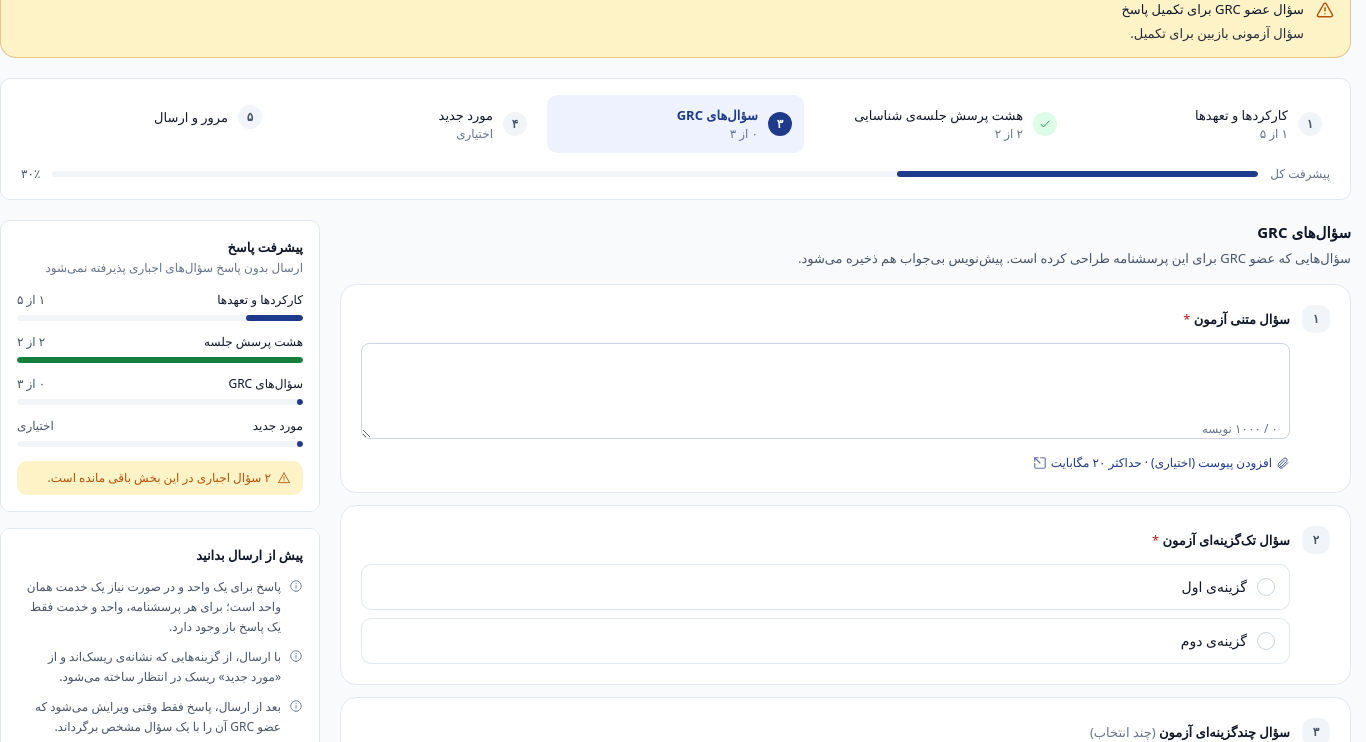
Test: ResponseFormPage › asks before submitting and becomes read-only after
This screenshot has width=1366, height=742.
Earlier steps of the test are not shown.
(page scrolled)
Type "جواب آزمون" into the text box named "سؤال متنی آزمون" at (826, 391), box [361,343,1290,439]
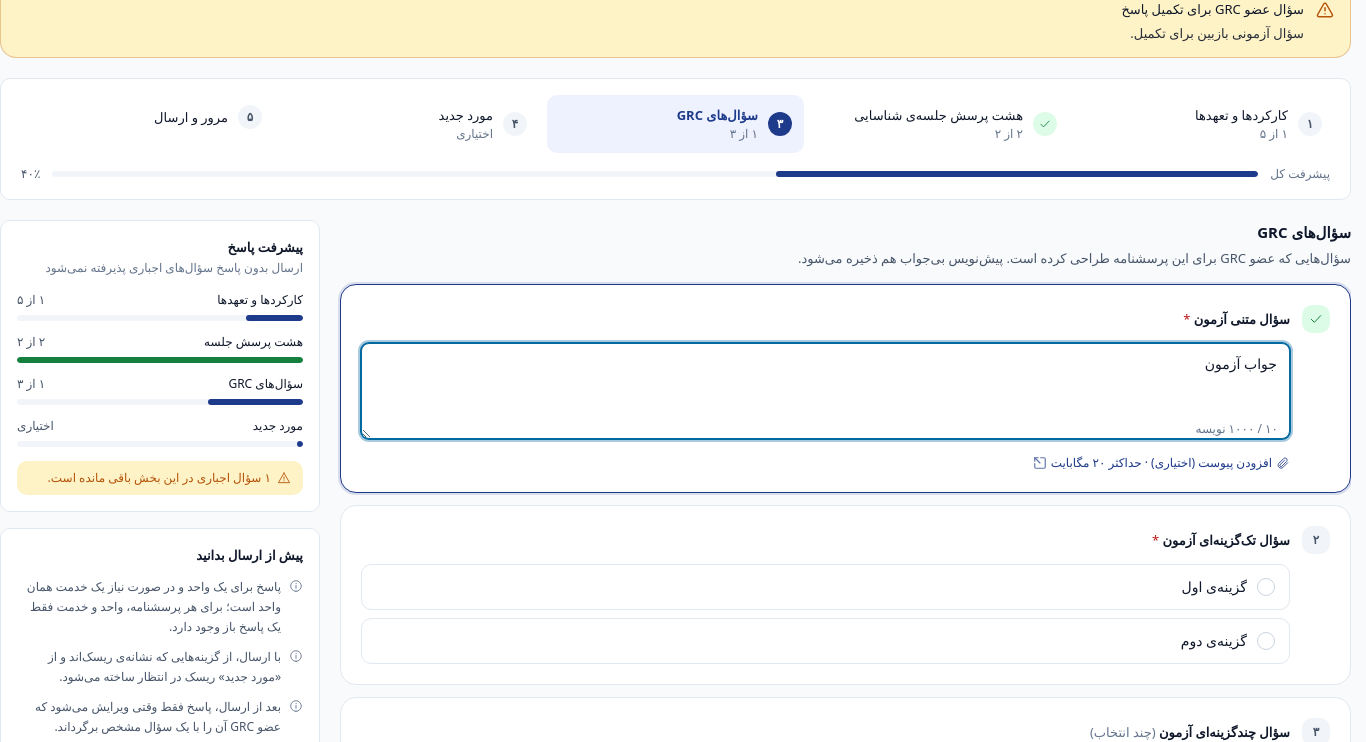
Click the radio button labelled "گزینه‌ی دوم" at (1266, 641), box [1257,632,1275,650]
(page scrolled)
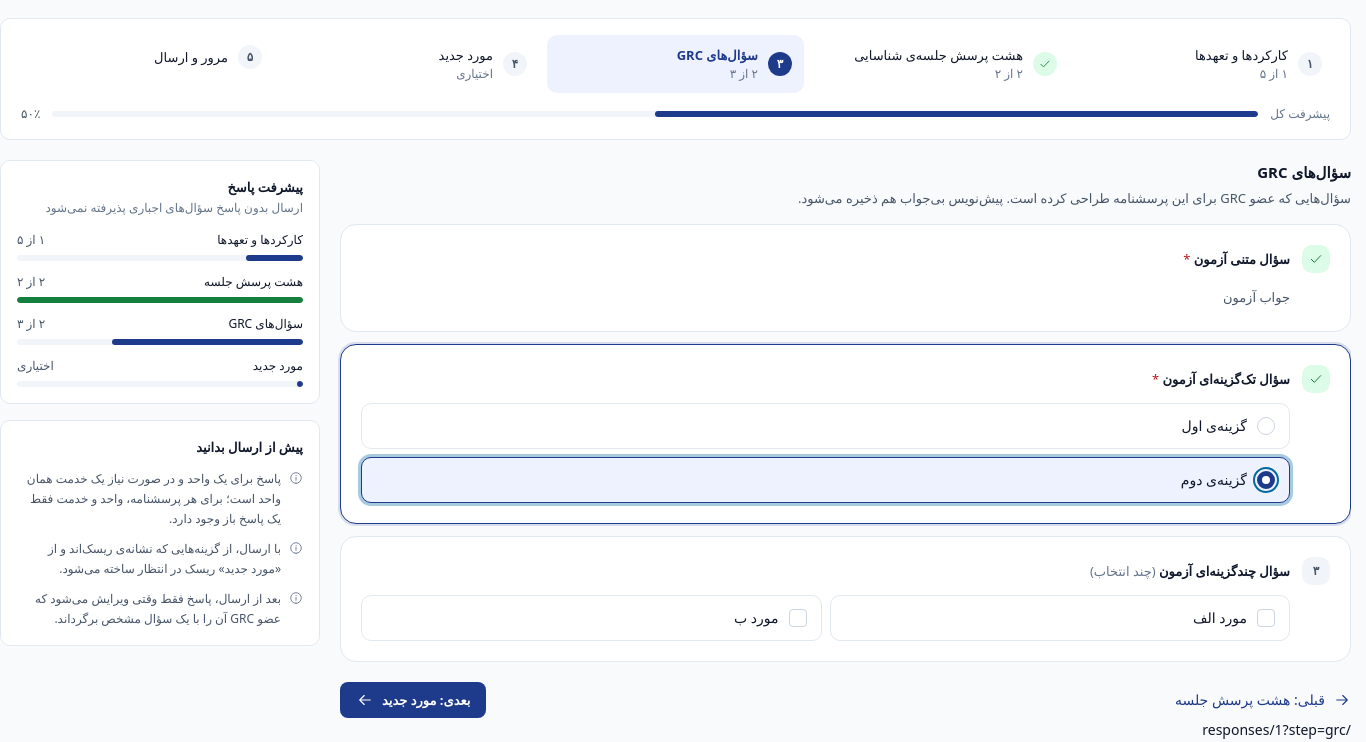
Click the button "بعدی: مورد جدید" at (413, 700), box [340,682,486,718]
(page scrolled)
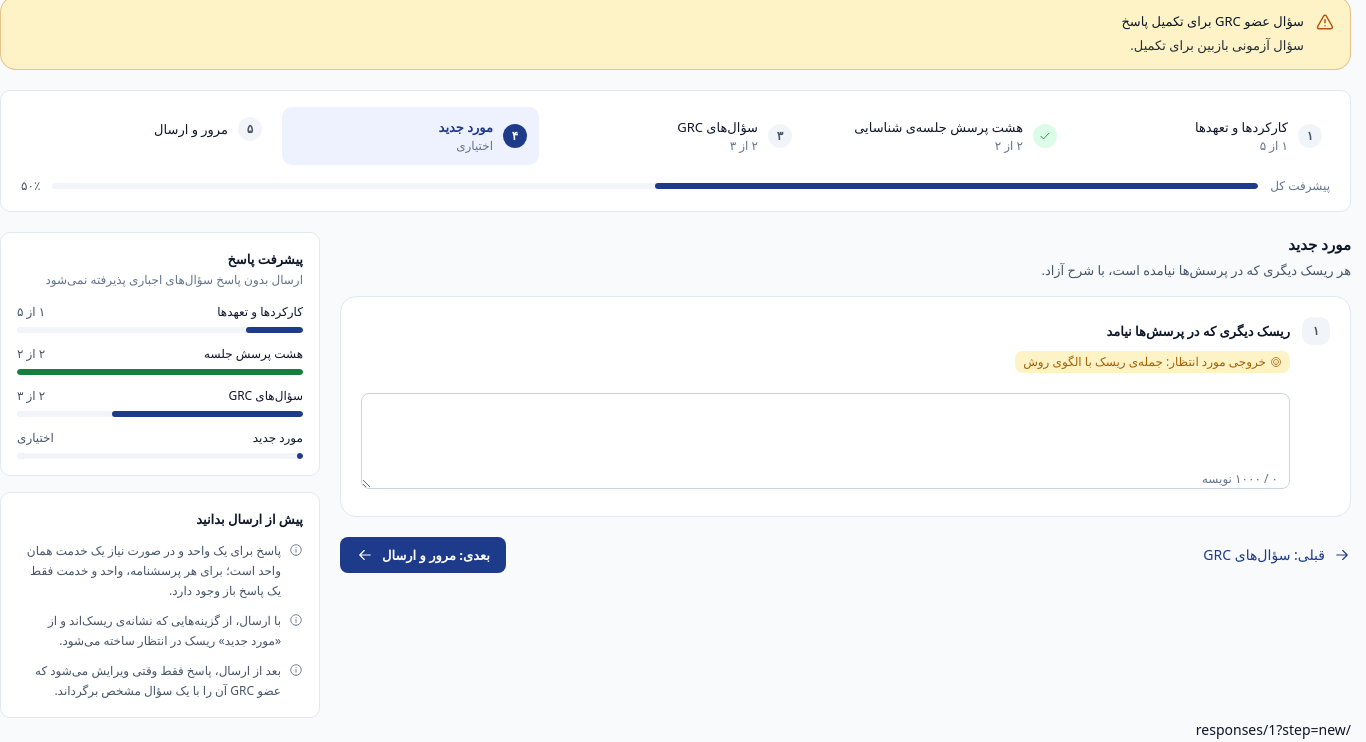
Click the button "بعدی: مرور و ارسال" at (423, 555), box [340,537,506,573]
(page scrolled)
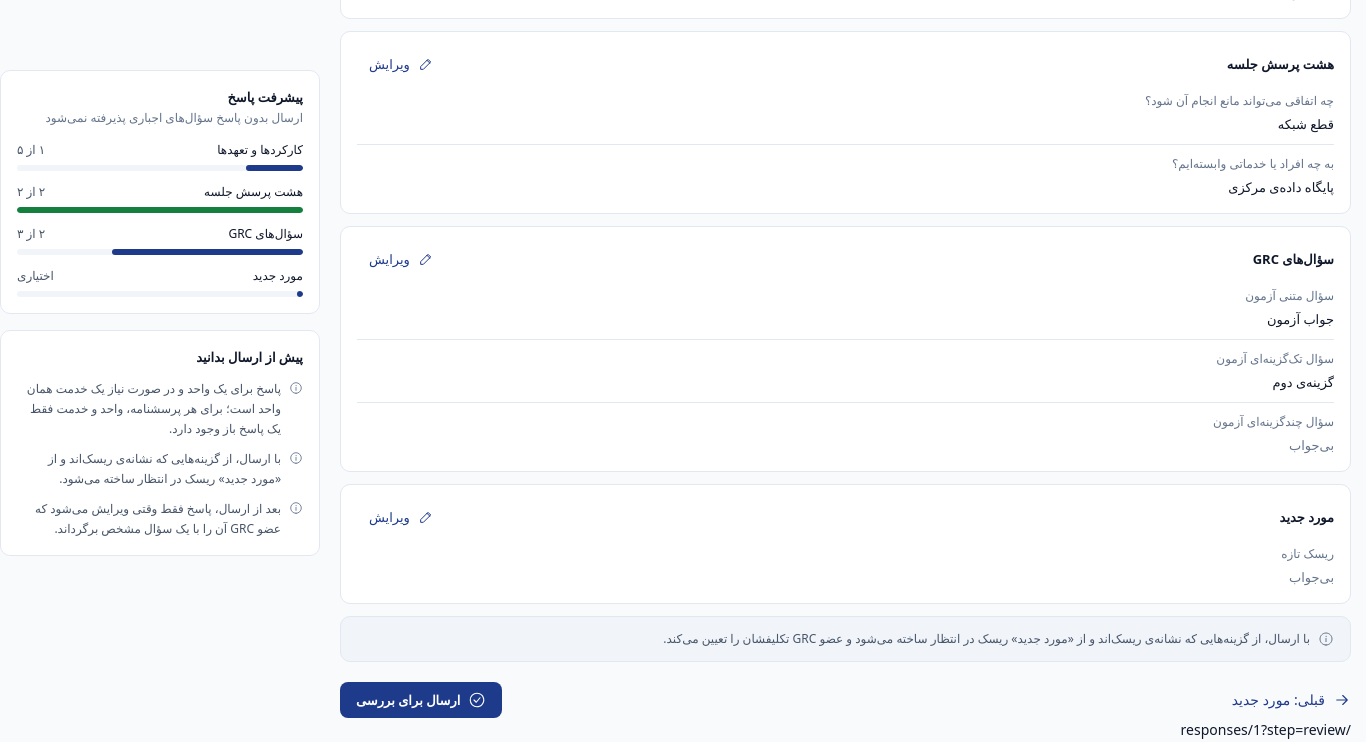
Click the button "ارسال برای بررسی" at (421, 700), box [340,682,502,718]
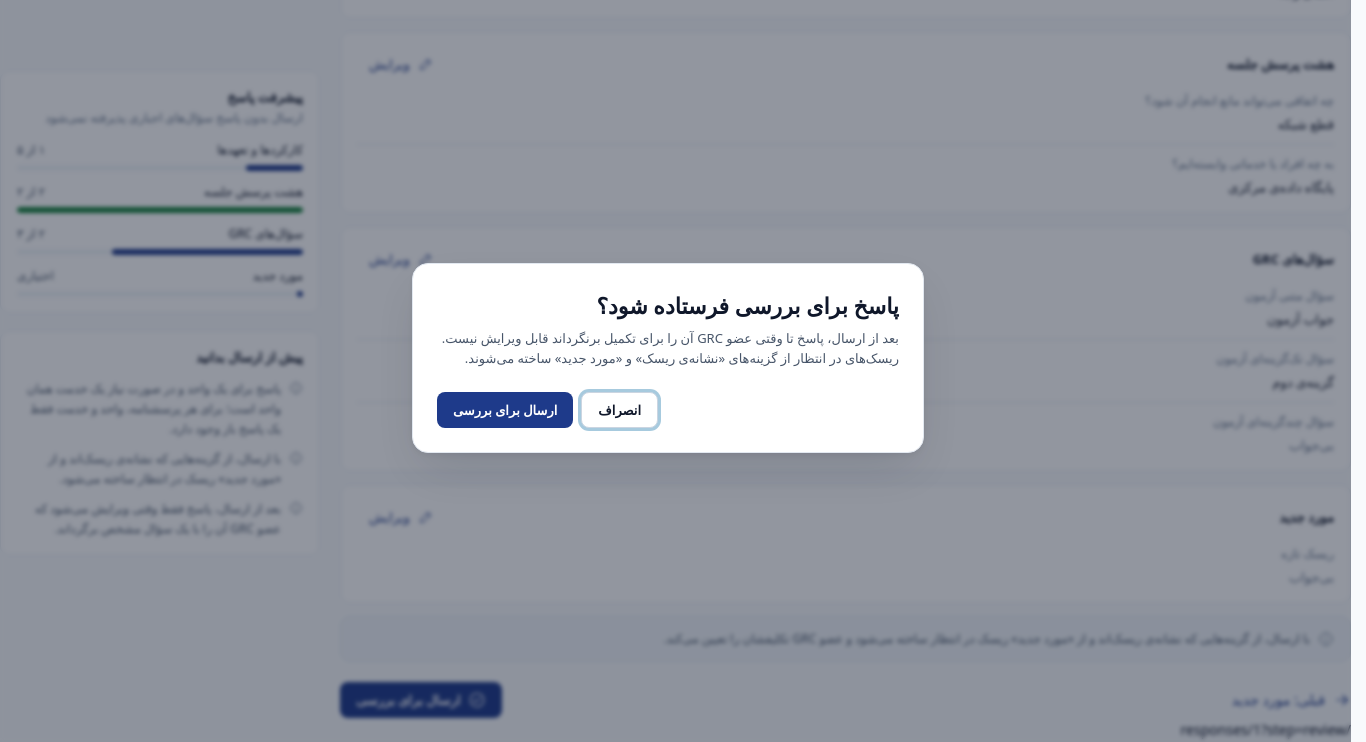
Click the button "ارسال برای بررسی" at (505, 410), box [437,392,573,428]
(page scrolled)
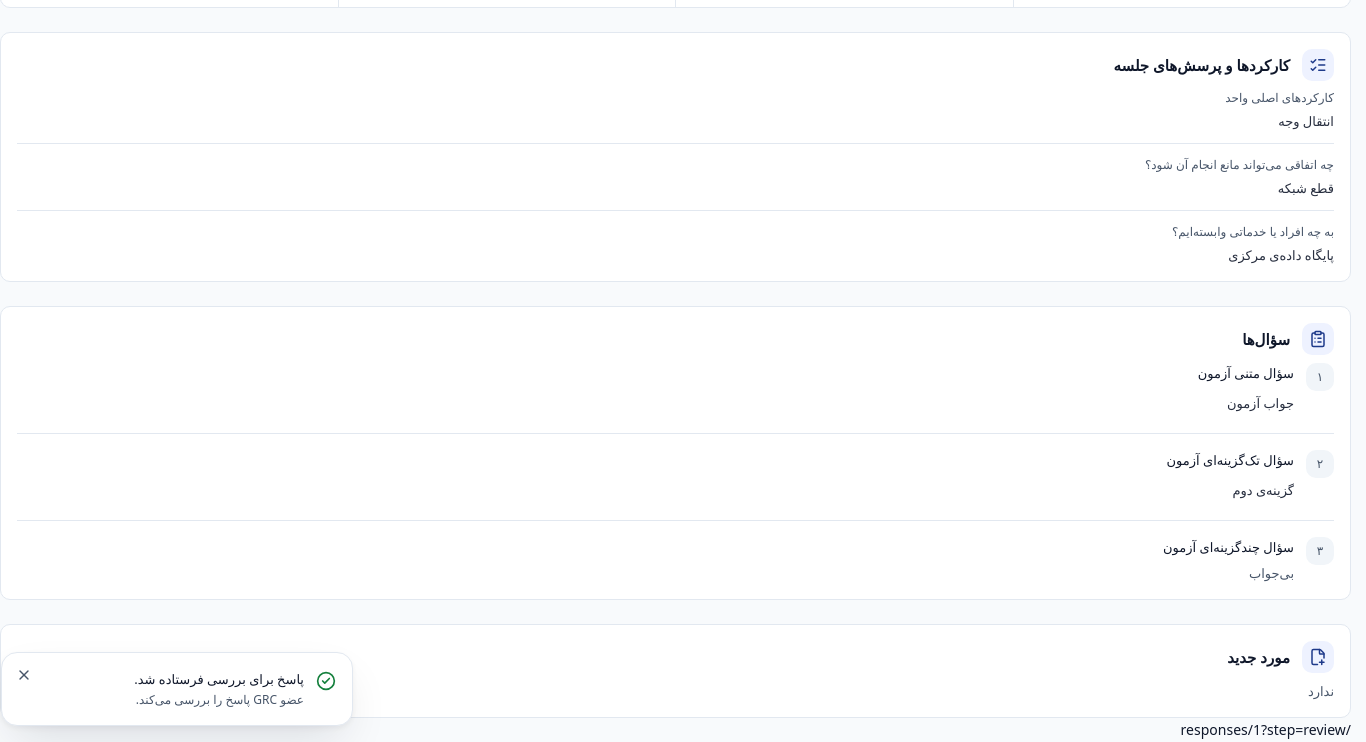
Result: the text "جواب آزمون" is shown at [1227,394,1294,412]
Result: the text "پاسخ برای بررسی فرستاده شد." is shown at [134,669,304,689]
